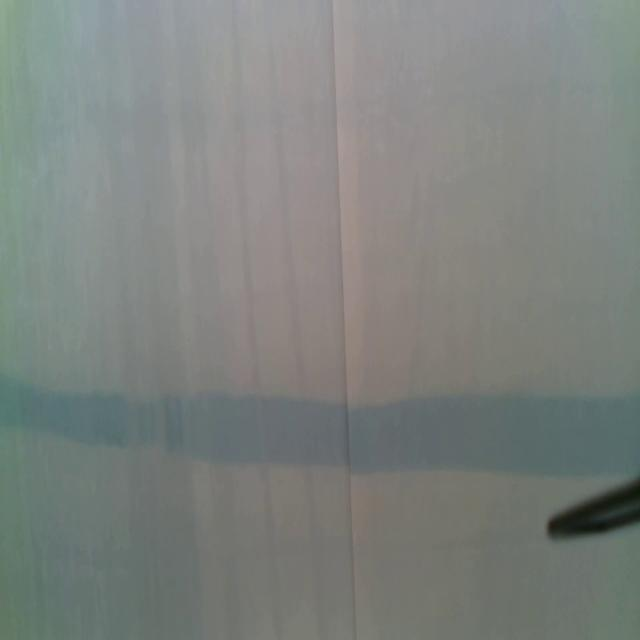color bleeding: (0, 369, 640, 478)
crease: (332, 0, 359, 640)
